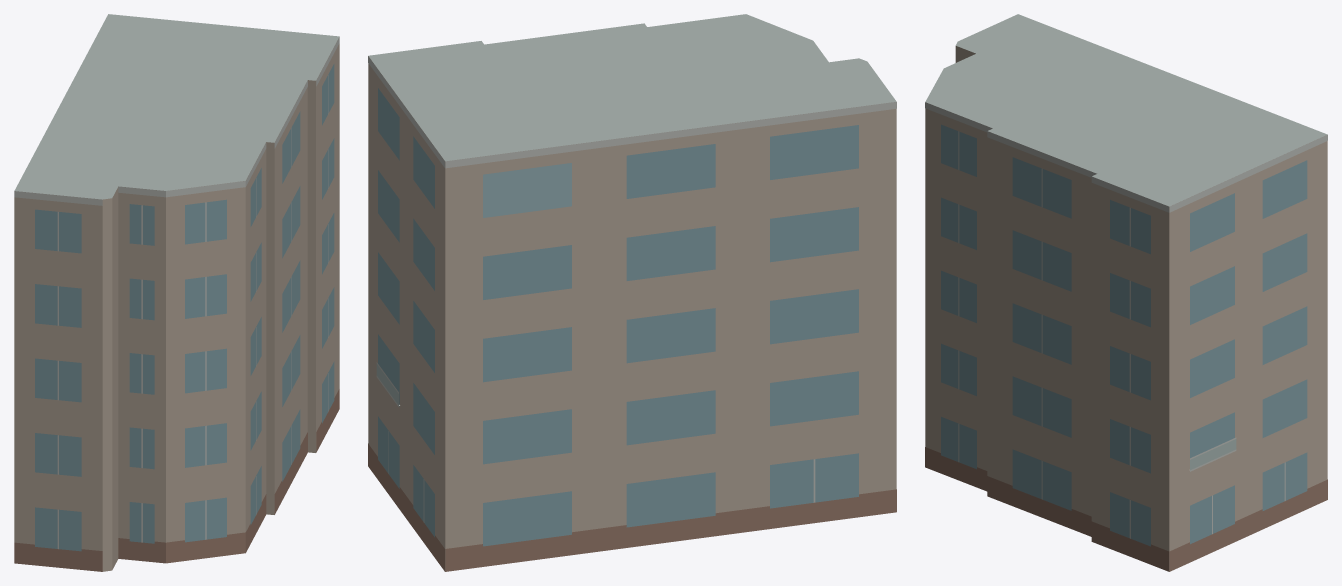
Rendered from survey-upis-33015159.glb.
3 renders of one model, left to right at view 1: azimuth 30°, elevation 25°; view 2: azimuth 150°, elevation 25°; view 3: azimuth 270°, elevation 25°, orthographic. The views are drawn at different scales.
Visible parts, largest first — view 1: survey-upis-33015159.tmp; view 2: survey-upis-33015159.tmp; view 3: survey-upis-33015159.tmp.
Boxes of the visible parts, <box> form: survey-upis-33015159.tmp: <box>14,14,339,571</box>; survey-upis-33015159.tmp: <box>368,14,896,571</box>; survey-upis-33015159.tmp: <box>925,14,1327,571</box>.
Bounding box in the file's own units: 16.18 × 14.3 × 14.3.
